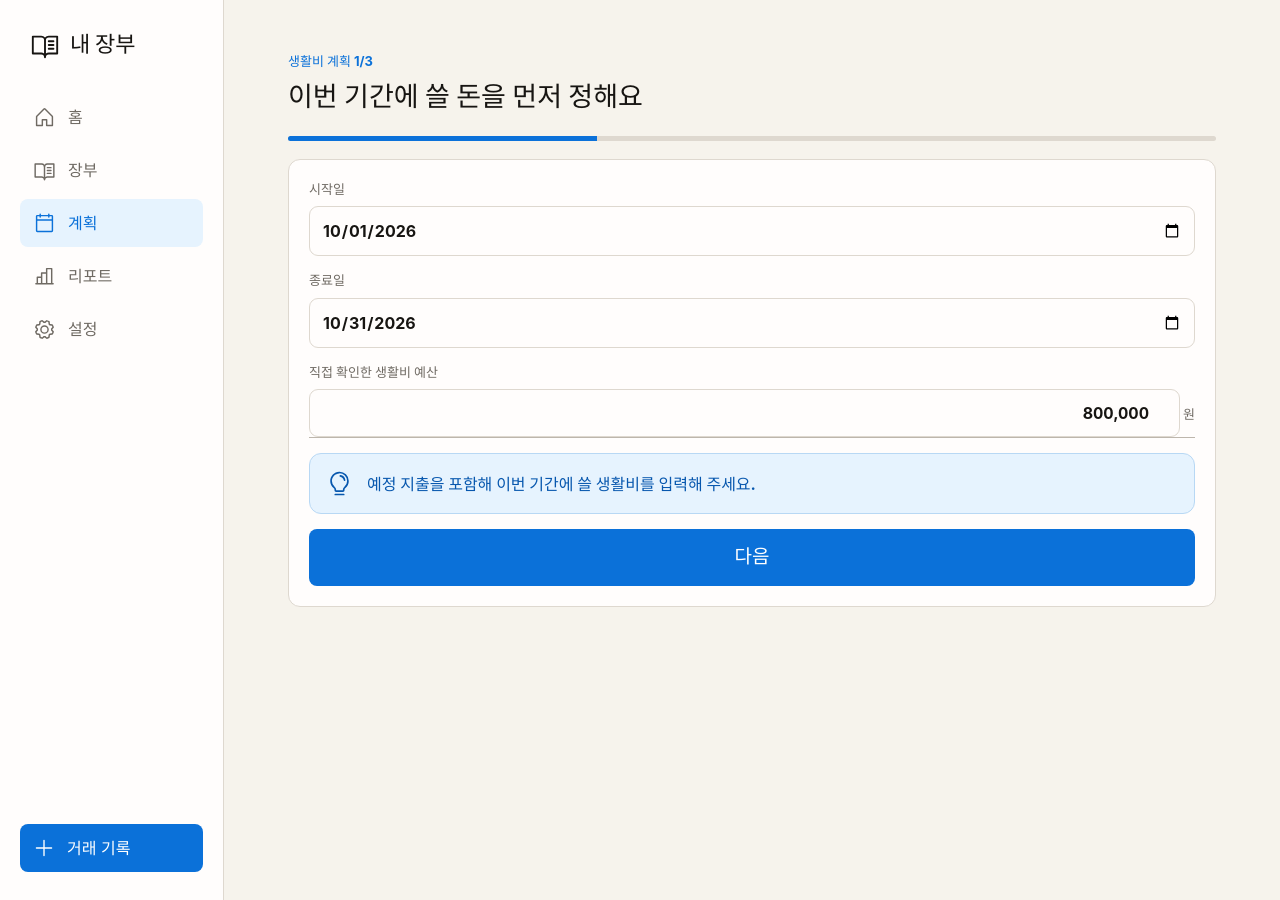
Test: spending plan flow › rejects a plan period longer than the server's 366-day limit
Type "2026-01-01" into the date field labelled "시작일".
click(752, 231); type("2026-01-01")  # box [309,206,1195,256]
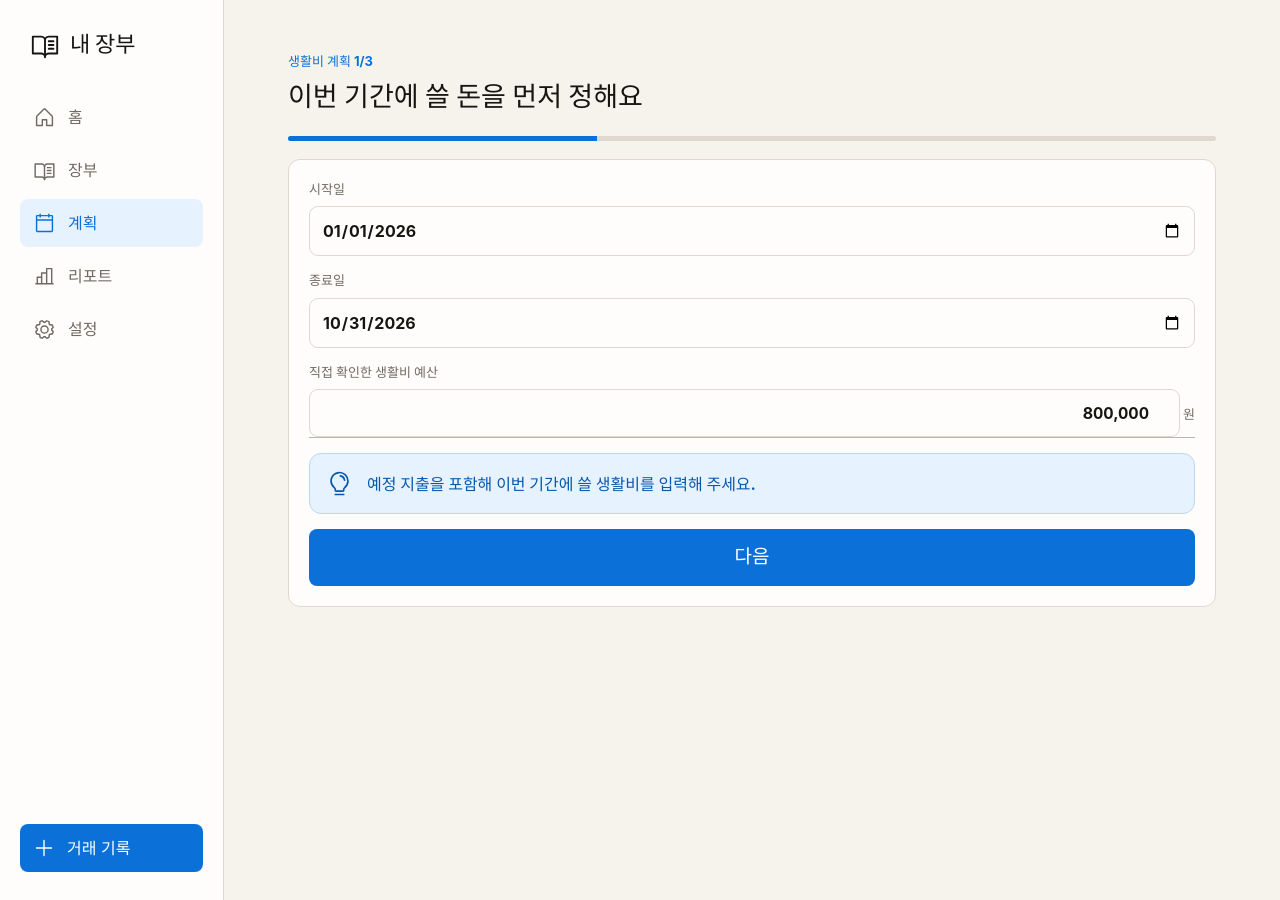
Type "2027-01-03" into the date field labelled "종료일".
click(752, 322); type("2027-01-03")  # box [309,298,1195,348]
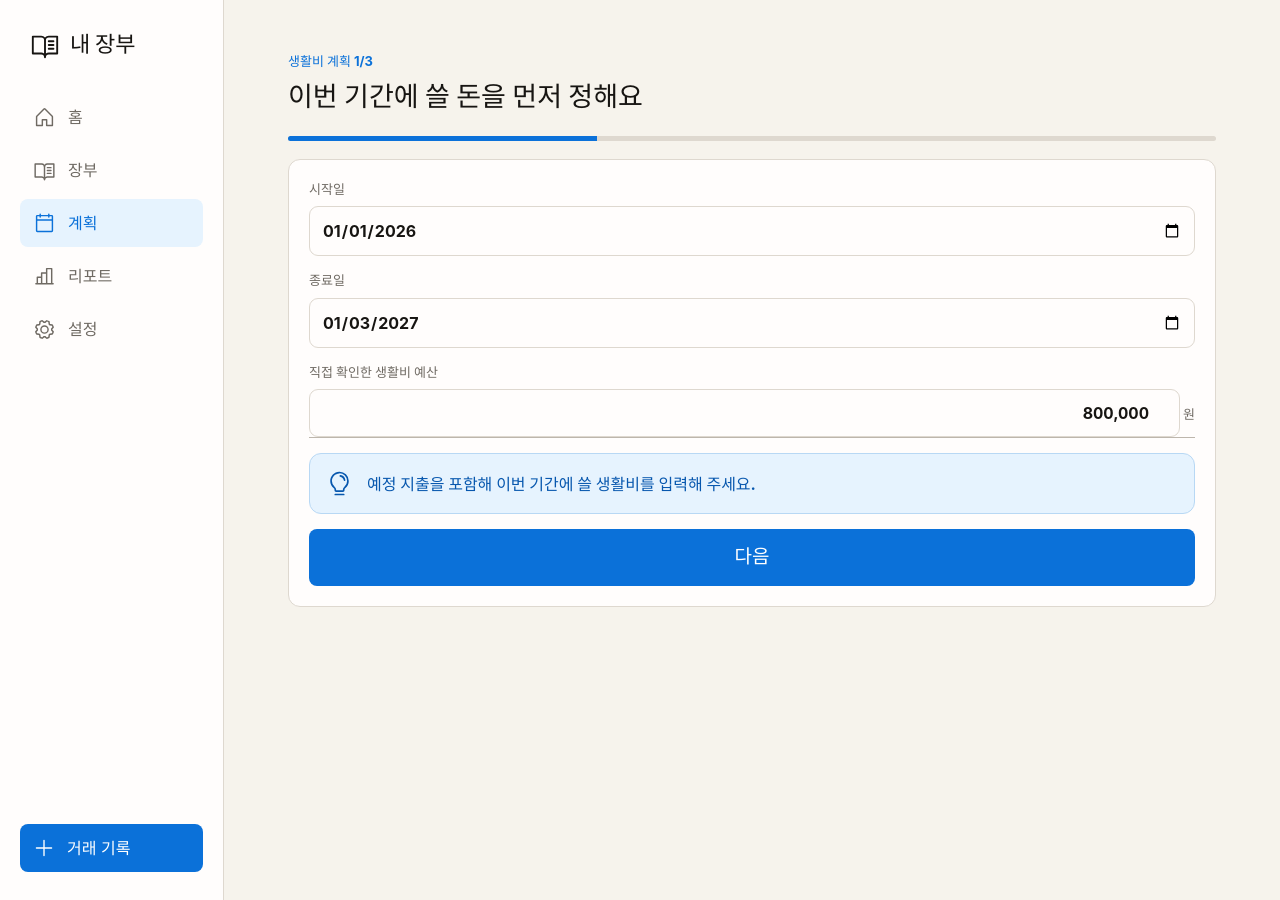
Click the button "다음".
click(752, 557)  # box [309,529,1195,586]
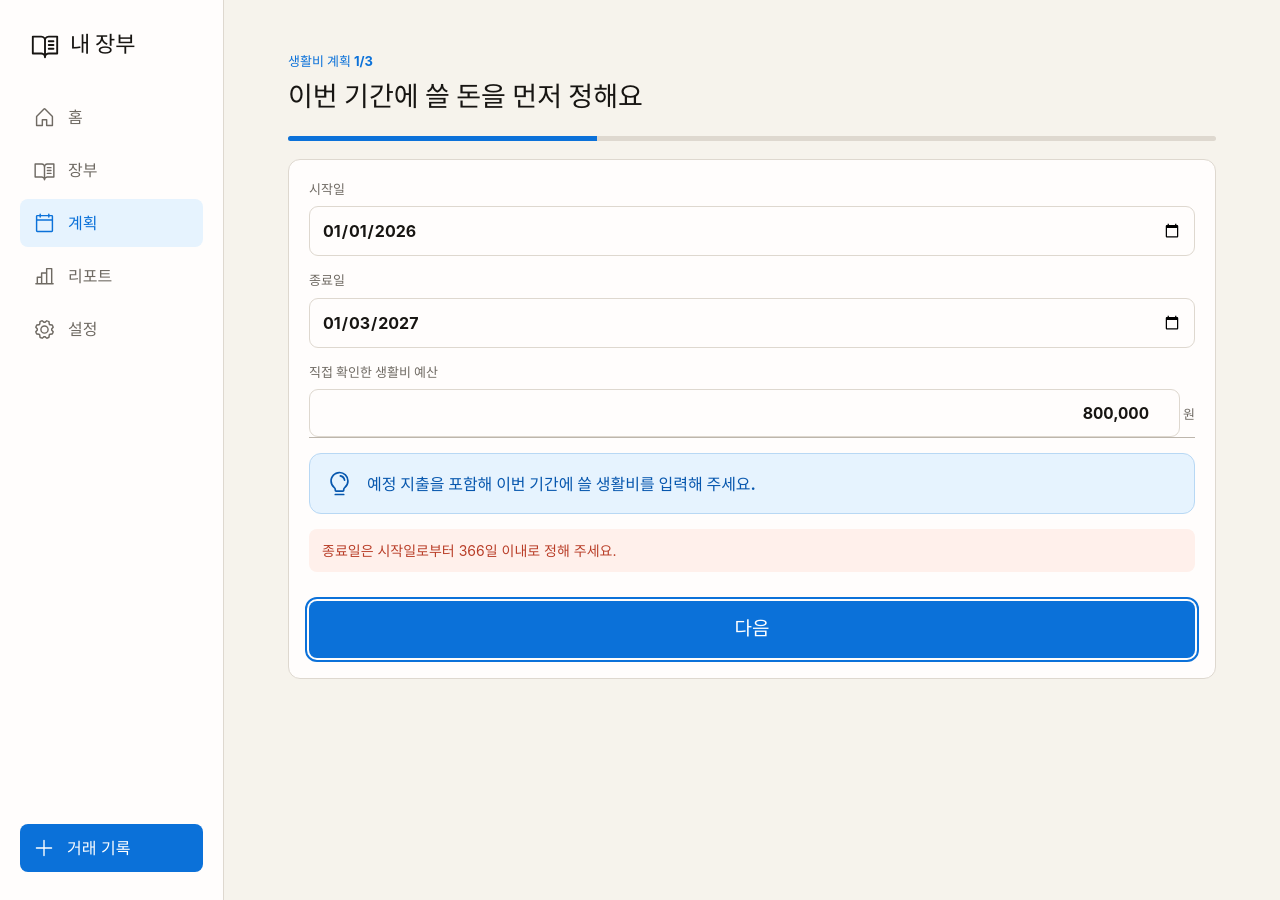
Expected: the text "생활비 계획 1/3" is shown, [288,53,373,69]
Now the message shows "366일 이내", box [322,542,616,559]
